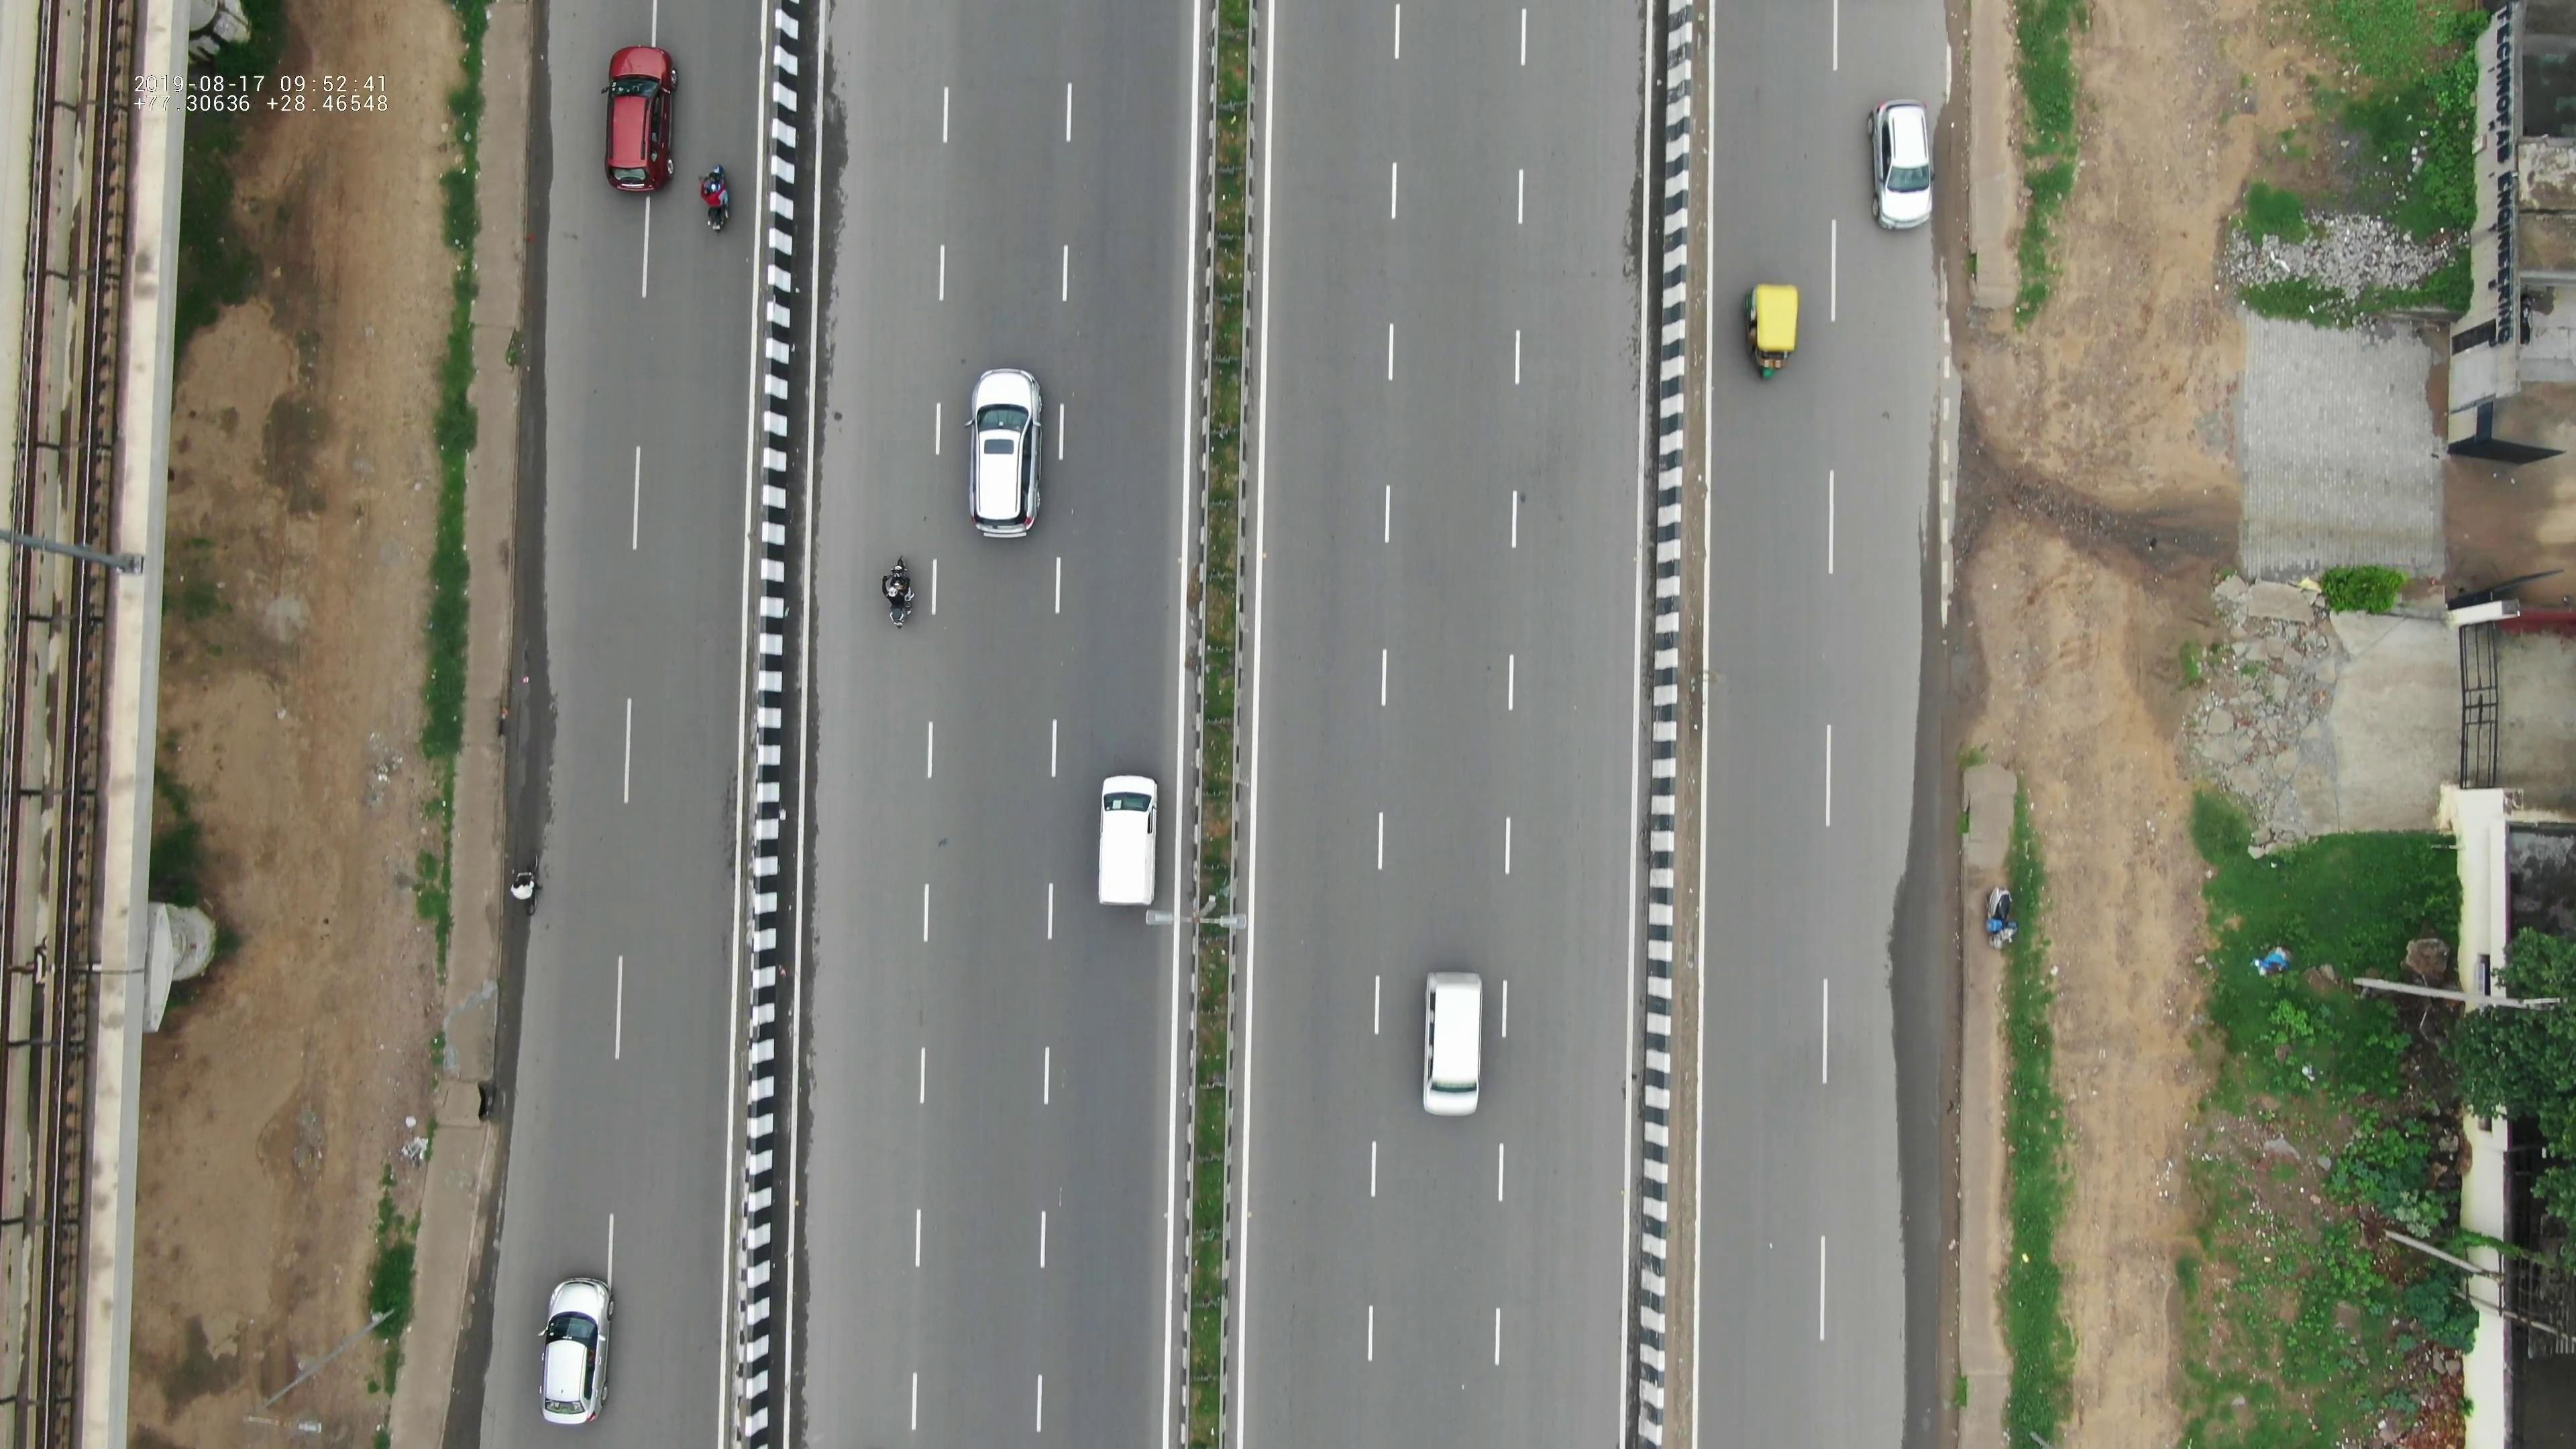Muddy_road: (1937, 108, 2001, 370)
